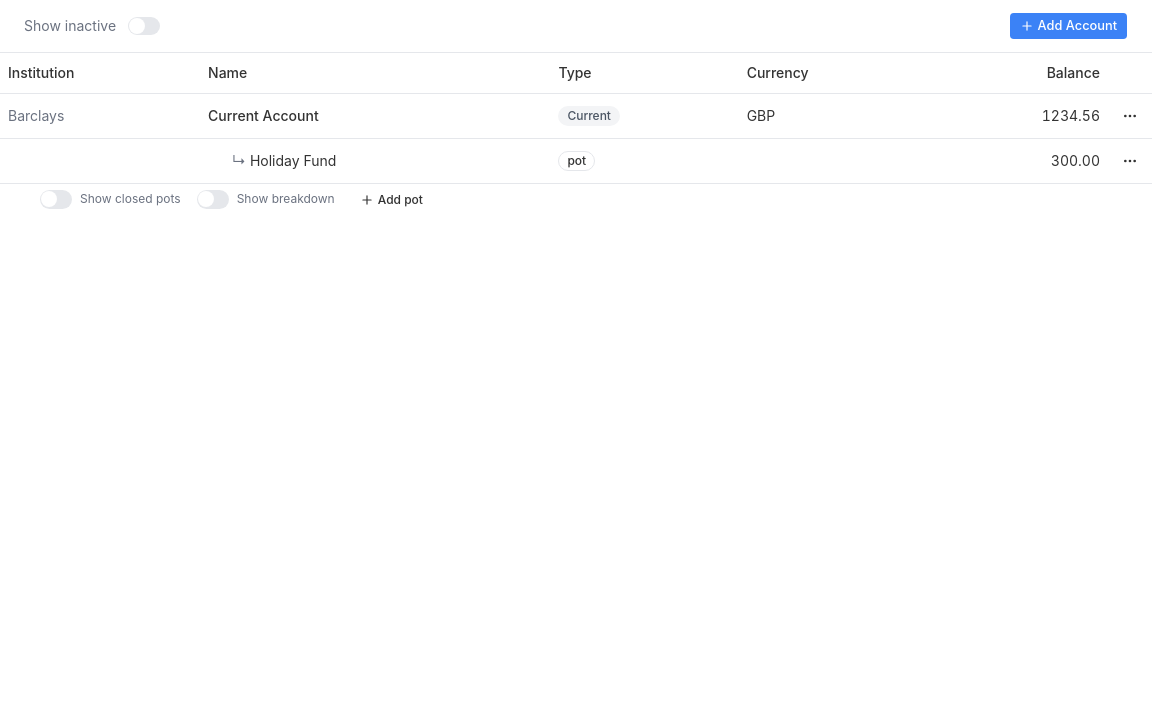
it: AccountsScreen — pot child rows › shows close warning dialog when pot balance is non-zero
The image size is (1152, 720).
Check: the text "Holiday Fund" is shown, box left=250, top=152, right=336, bottom=168
Press the mouse on the button named "pot actions": (1130, 160) left=1116, top=146, right=1144, bottom=174
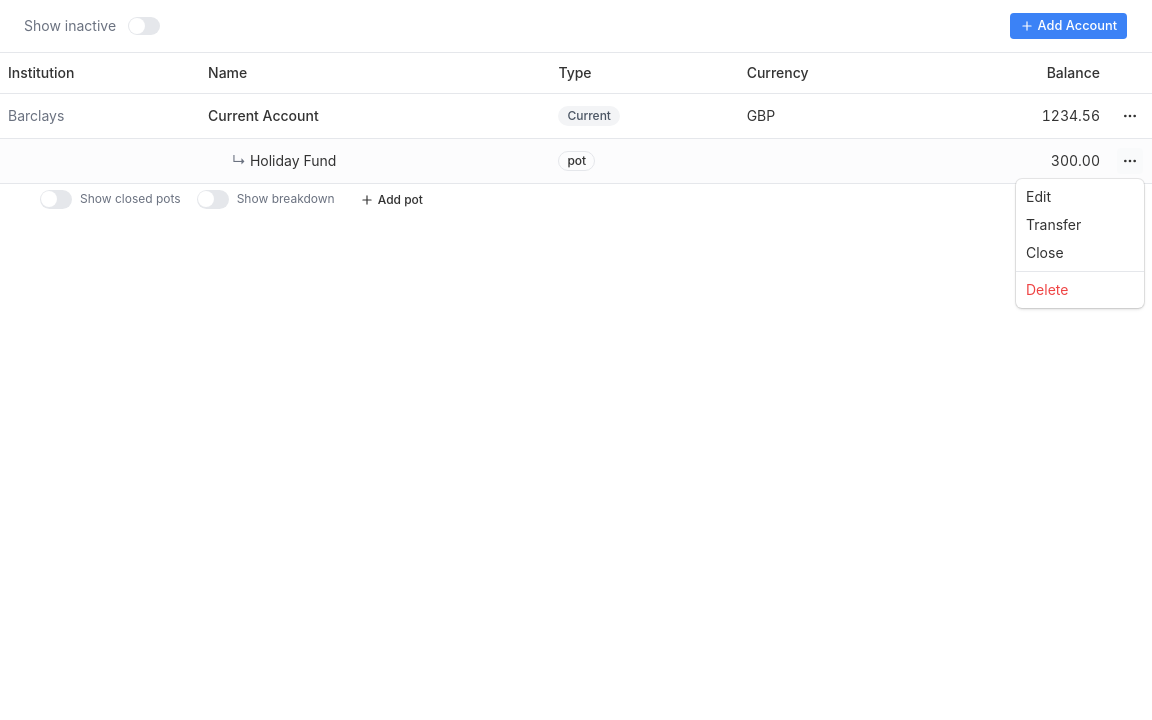
Check: the menu item "Close" is shown
Click the menu item "Close": (1045, 252) left=1026, top=244, right=1064, bottom=261
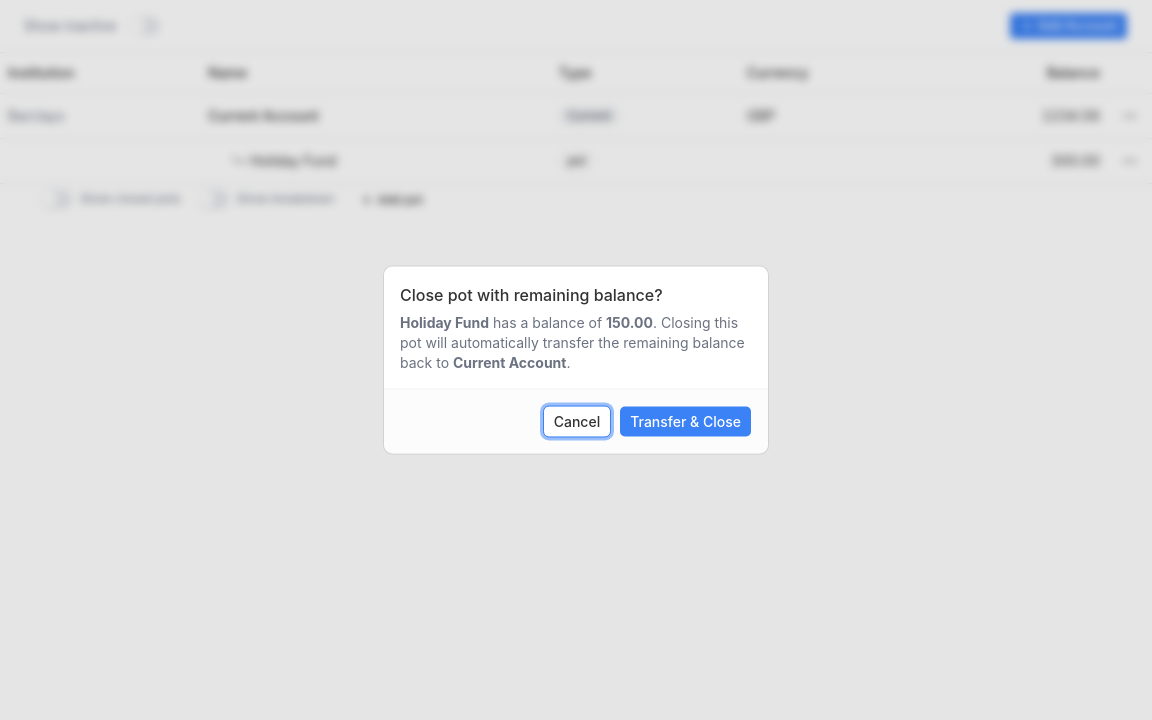
Check: the heading "Close pot with remaining balance?" is shown, box left=400, top=282, right=663, bottom=306
